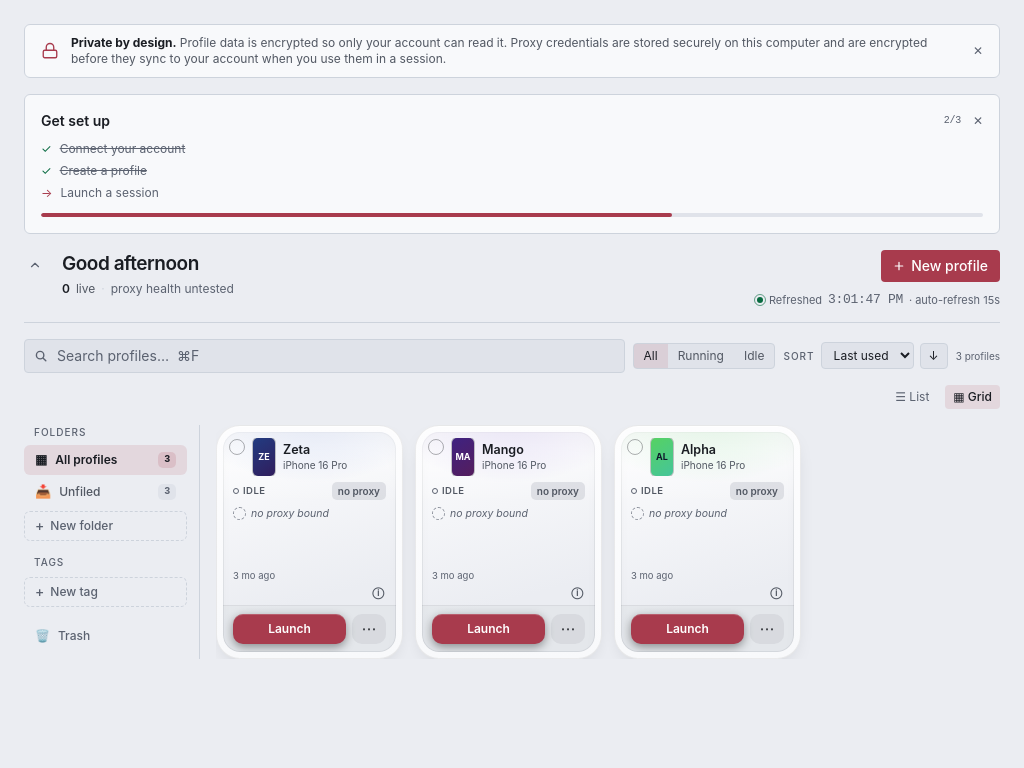
Test case: ProfilesView unified sort persists across grid↔list › the direction toggle flips the order and survives a view switch
Expected: the text "Zeta" is shown, [283, 442, 310, 456]
Select "Name" in the dropdown named "Sort profiles" at {"x": 867, "y": 356}, box [821, 342, 914, 369]
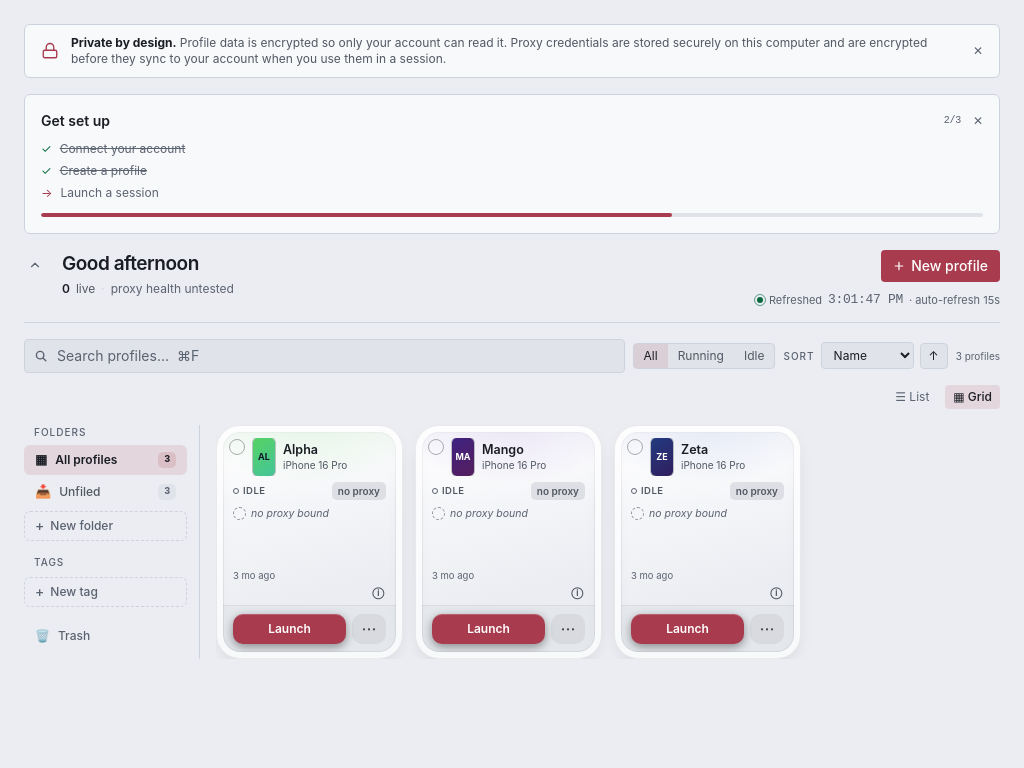
// Flip to descending via the action-bar direction toggle.
Click the button named "Sort direction".
click(934, 356)  # box [920, 342, 948, 368]
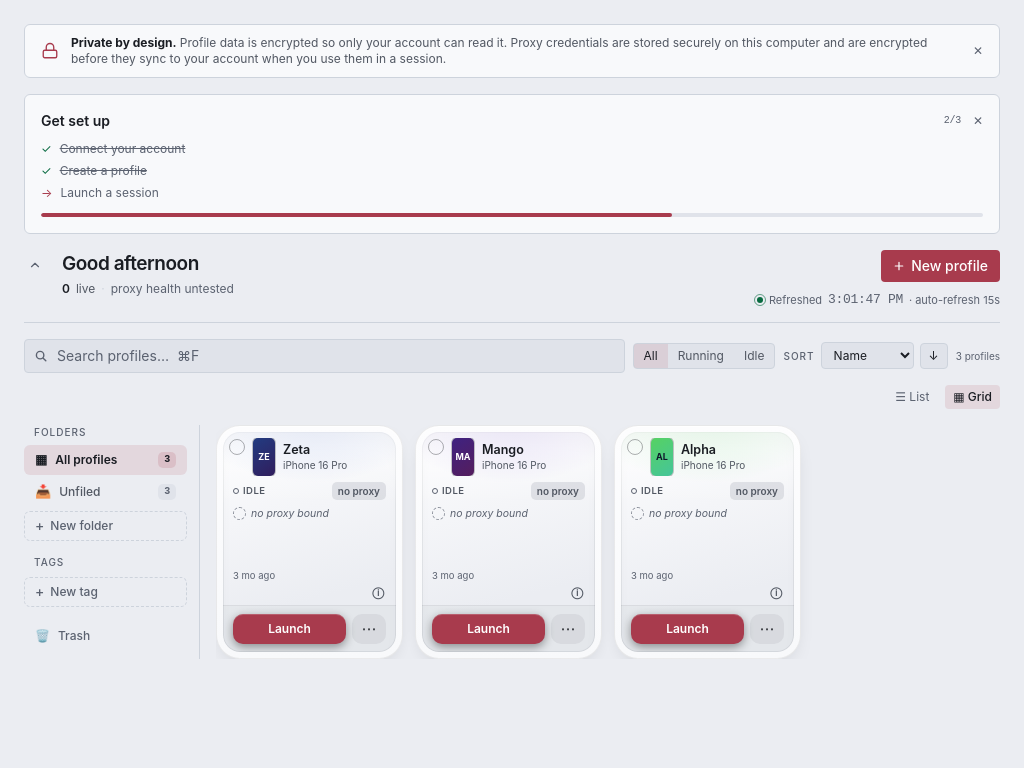
// Descending name order holds in the list view too.
Click the button "☰ List".
click(912, 396)  # box [887, 384, 937, 408]
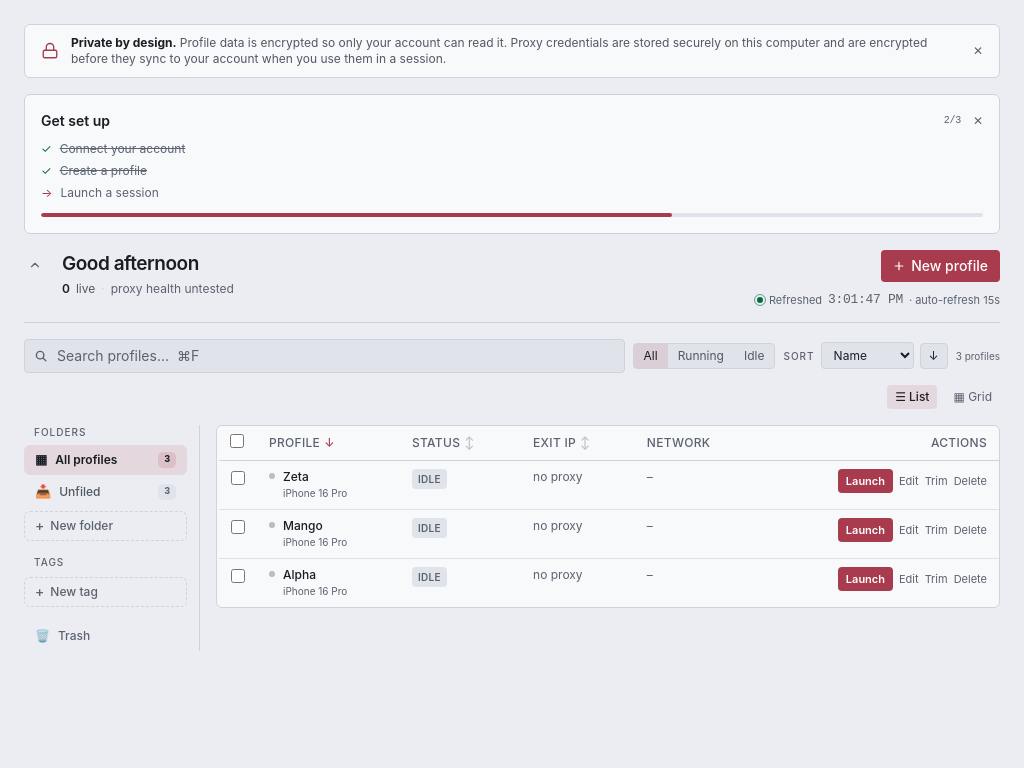
Expected: the table is shown, [217, 426, 999, 606]
